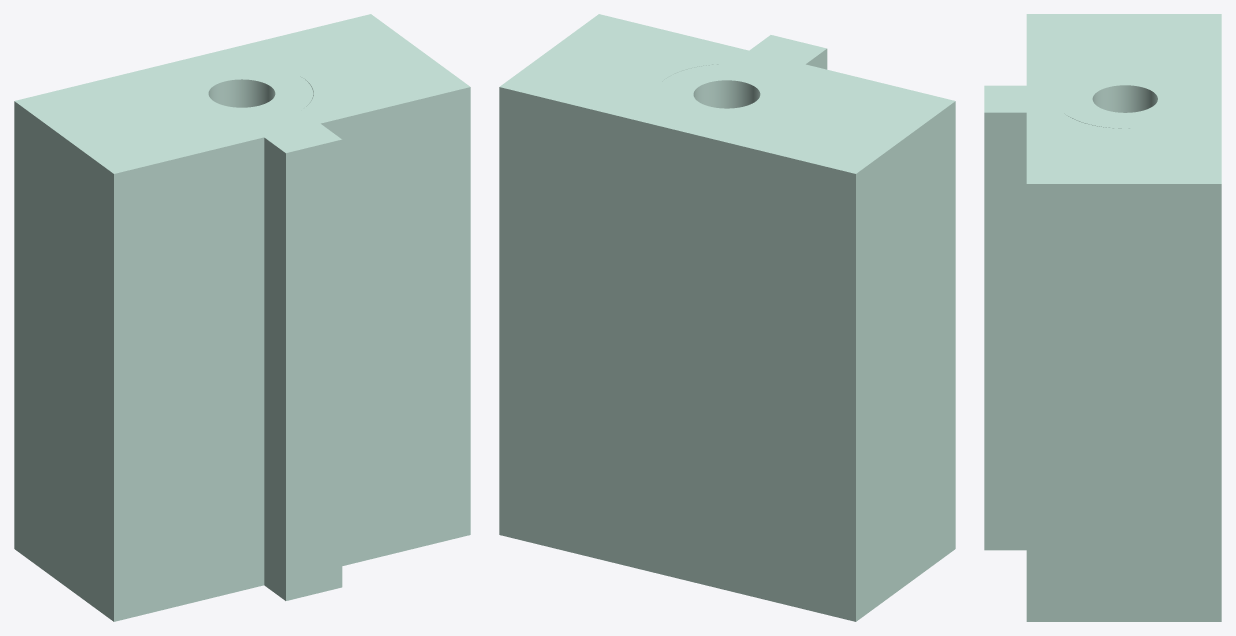
3 renders of one model, left to right at view 1: azimuth 30°, elevation 25°; view 2: azimuth 150°, elevation 25°; view 3: azimuth 270°, elevation 25°, orthographic. The views are drawn at different scales.
Parts seen in each view (by area): view 1: Renderer Node; view 2: Renderer Node; view 3: Renderer Node.
Boxes of the visible parts, x1,y1,x2,y2 form: Renderer Node: (14,14,470,621); Renderer Node: (499,14,955,621); Renderer Node: (984,14,1221,621).
Bounding box in the file's own units: 0.625 × 0.75 × 0.3684.
